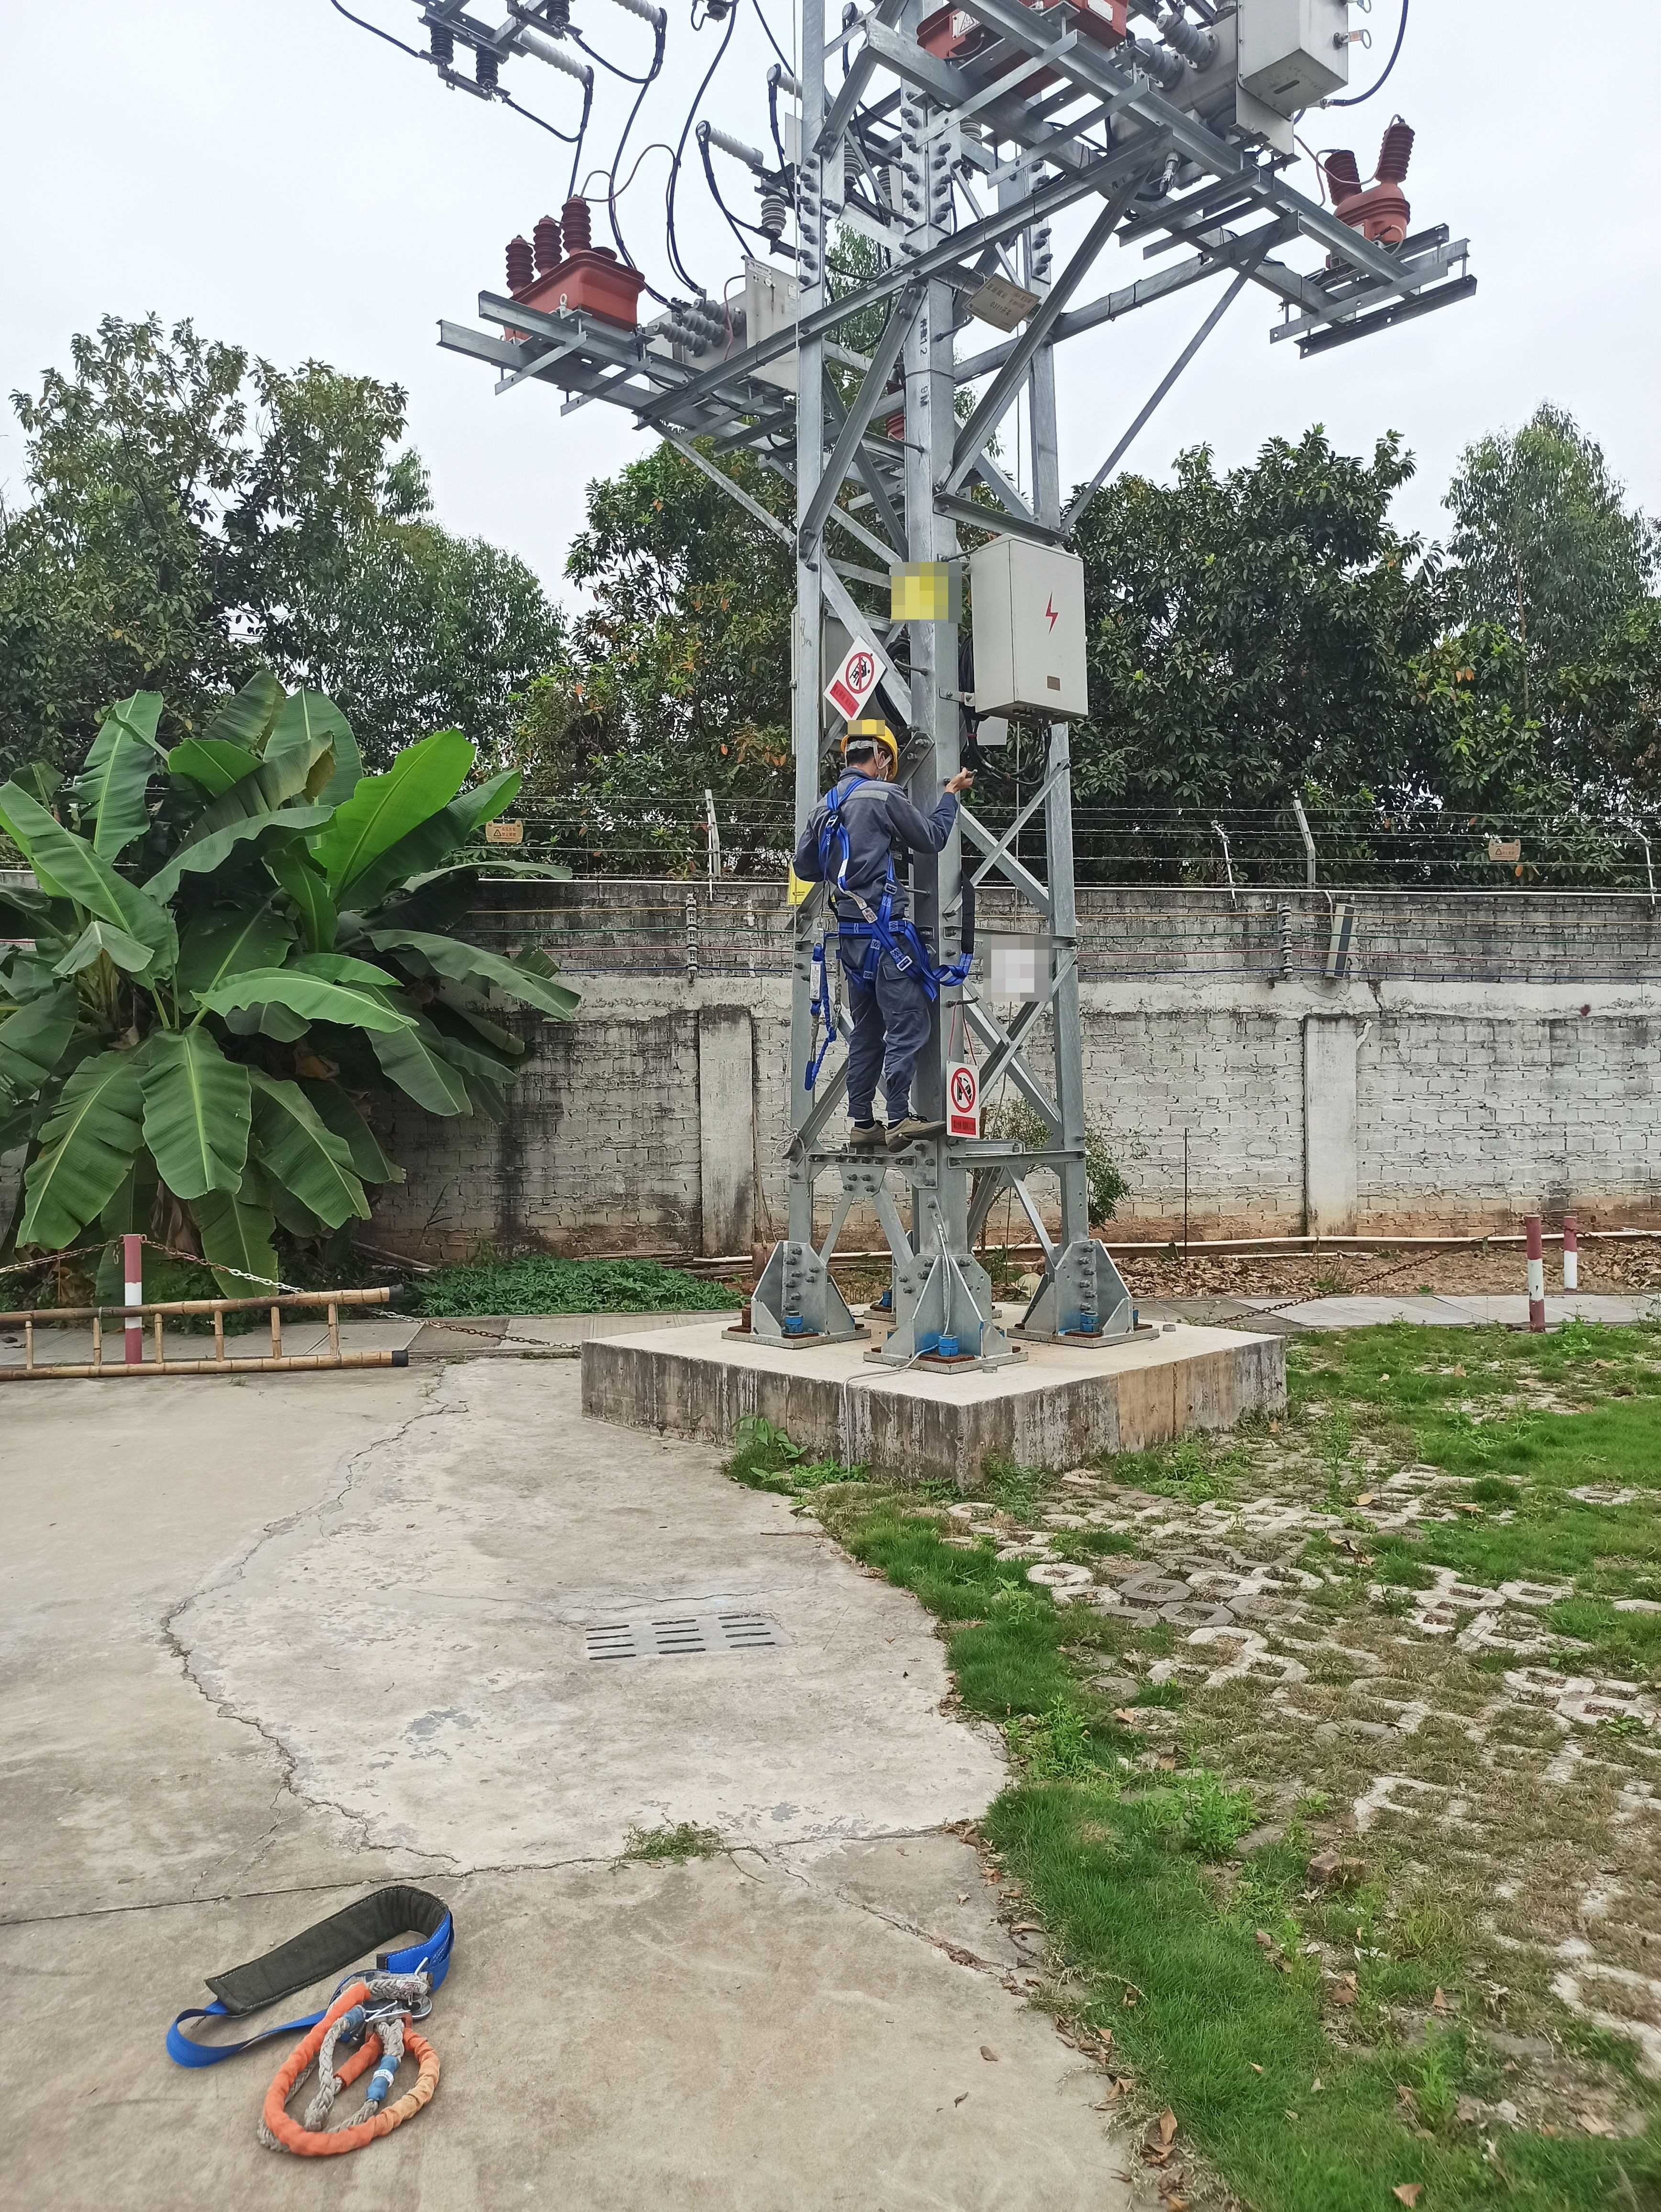downsuit: (839, 932, 926, 1118)
upsuit: (818, 782, 911, 914)
